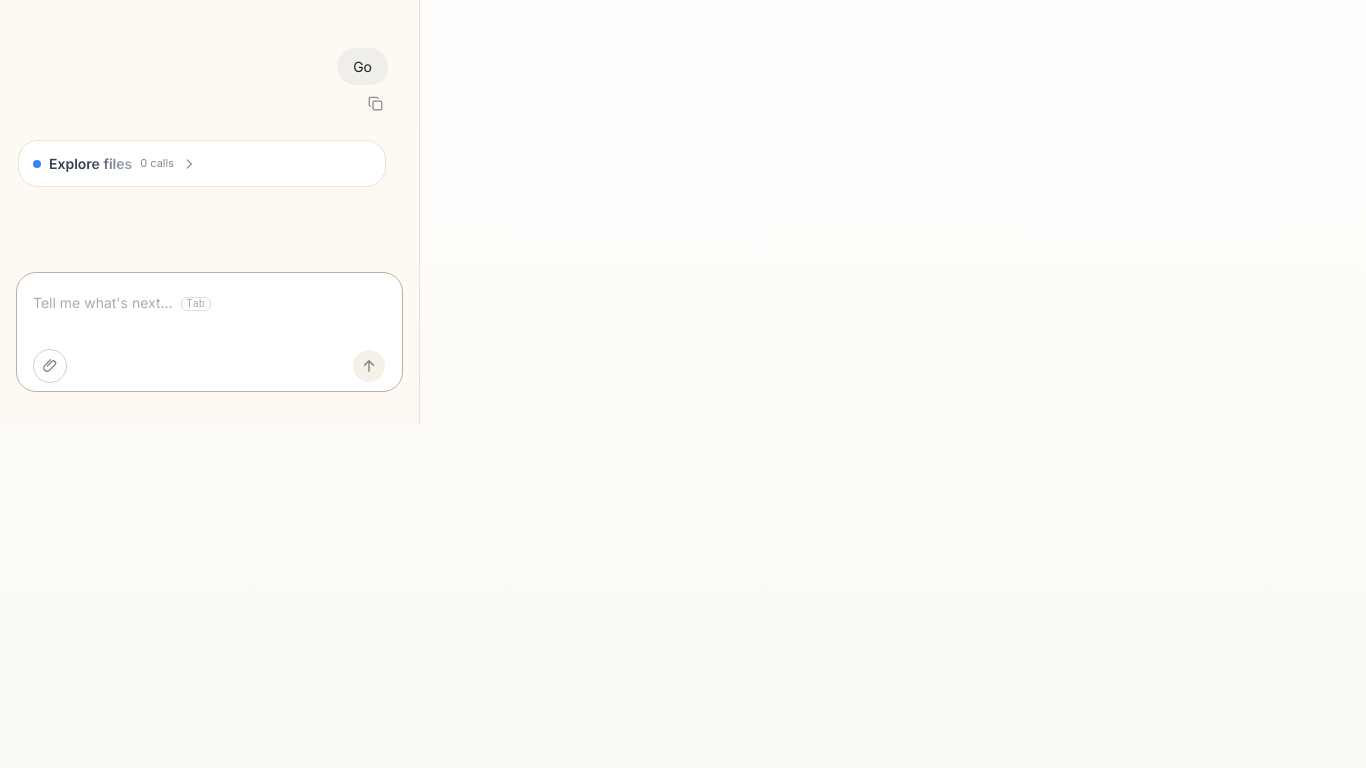
Scenario: ChatPanel › expands and closes a subagent card from the transcript
Click the button "Explore files 0 calls": (60, 164) [18, 140, 386, 187]
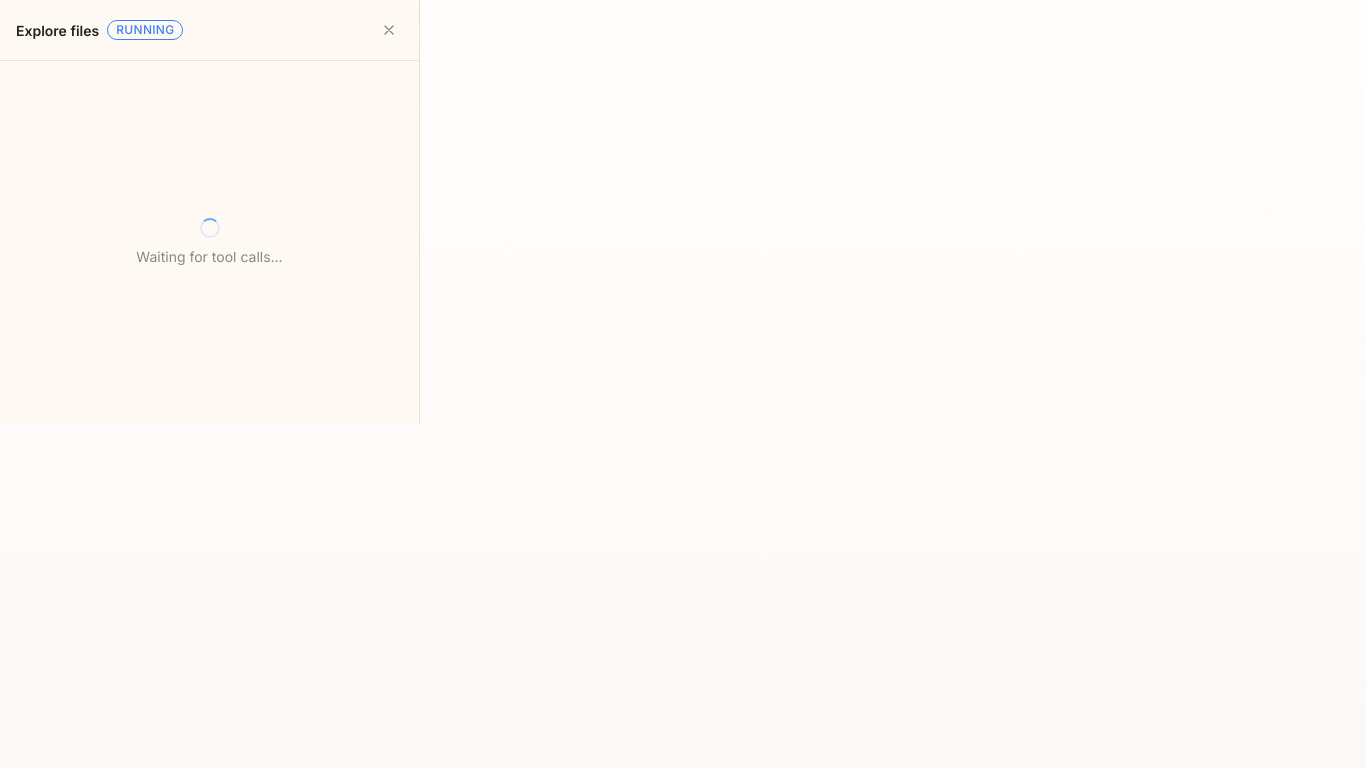
Check: the text "Waiting for tool calls..." is shown, box [136, 246, 283, 267]
Click the button named "Close subagent view": (389, 30) [375, 16, 403, 44]
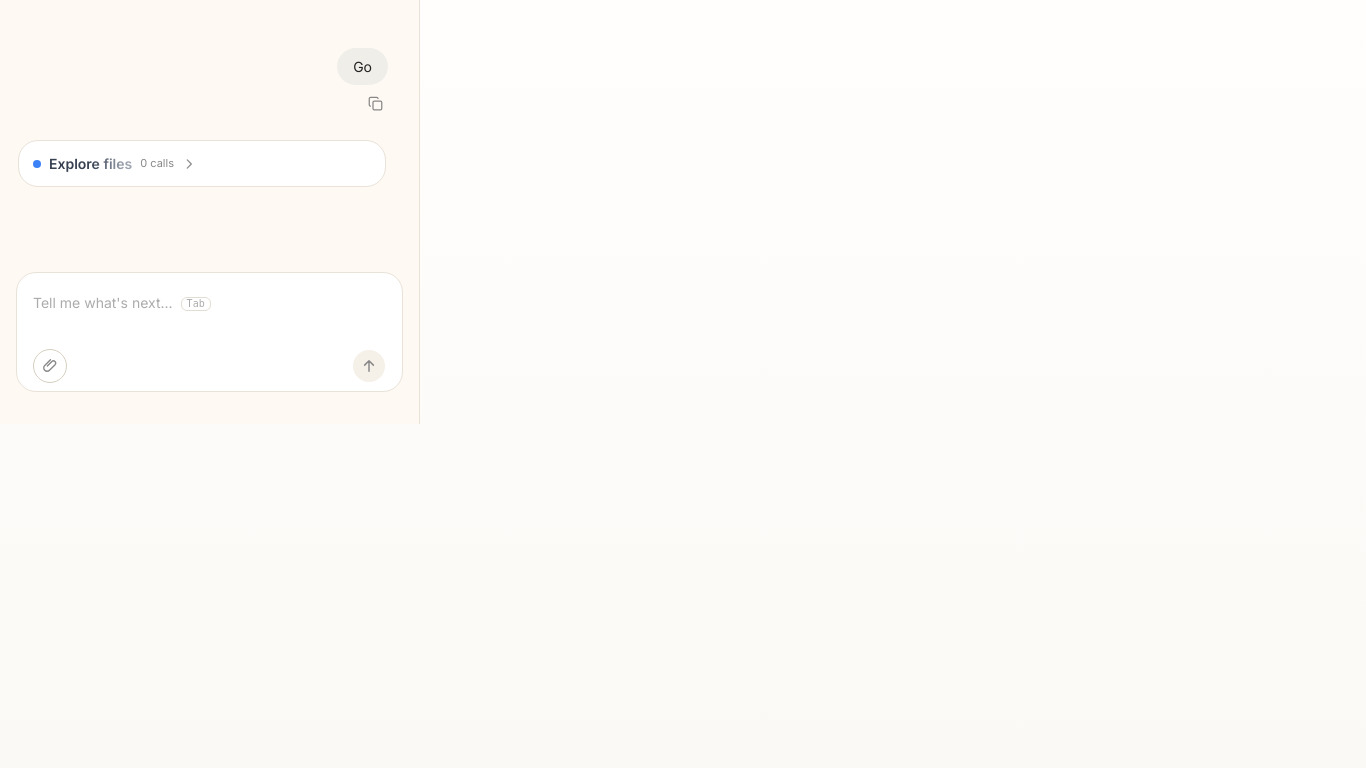
Check: the text "Waiting for tool calls..." is gone
